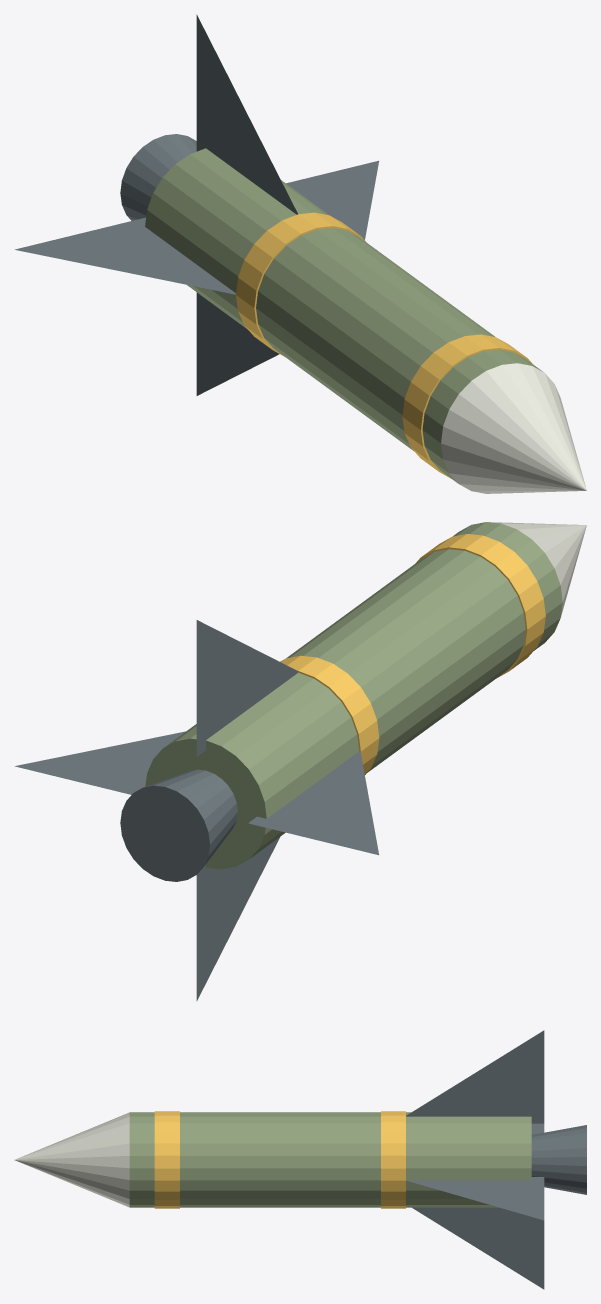
Rendered from rocket.glb.
The picture shows the model from 3 angles, top to bottom: view 1: azimuth 30°, elevation 25°; view 2: azimuth 150°, elevation 25°; view 3: azimuth 270°, elevation 25°; orthographic projection. The views are drawn at different scales.
Visible parts, largest first — view 1: Cylinder, Cone, Stabilizer.002, Stabilizer.001, Stabilizer.003, Cylinder.002, Cylinder.001, Stabilizer, Cone.001; view 2: Cylinder, Cone.001, Stabilizer.002, Stabilizer.001, Stabilizer.003, Stabilizer, Cylinder.001, Cylinder.002, Cone; view 3: Cylinder, Stabilizer.002, Cone, Stabilizer.003, Cone.001, Stabilizer, Cylinder.001, Cylinder.002.
Boxes of the visible parts, x1,y1,x2,y2 form: Cylinder: (145,148,542,483); Cone: (441,363,586,493); Stabilizer.002: (196,14,297,214); Stabilizer.001: (15,217,235,294); Stabilizer.003: (196,292,279,395); Cylinder.002: (236,212,365,356); Cylinder.001: (402,334,532,478); Stabilizer: (286,160,378,239); Cone.001: (120,134,196,220); Cylinder: (145,522,562,869); Cone.001: (120,769,237,881); Stabilizer.002: (196,620,298,756); Stabilizer.001: (248,751,378,855); Stabilizer.003: (196,837,279,1001); Stabilizer: (15,731,185,794); Cylinder.001: (415,534,545,677); Cylinder.002: (280,655,379,774); Cone: (488,522,586,616); Cylinder: (129,1112,531,1207); Stabilizer.002: (406,1030,544,1123); Cone: (14,1112,129,1207); Stabilizer.003: (412,1207,544,1289); Cone.001: (531,1125,586,1194); Stabilizer: (406,1177,544,1220); Cylinder.001: (154,1111,179,1208); Cylinder.002: (381,1111,405,1208).
Size of the model in its own units: 1.14 by 1.14 by 2.28.
